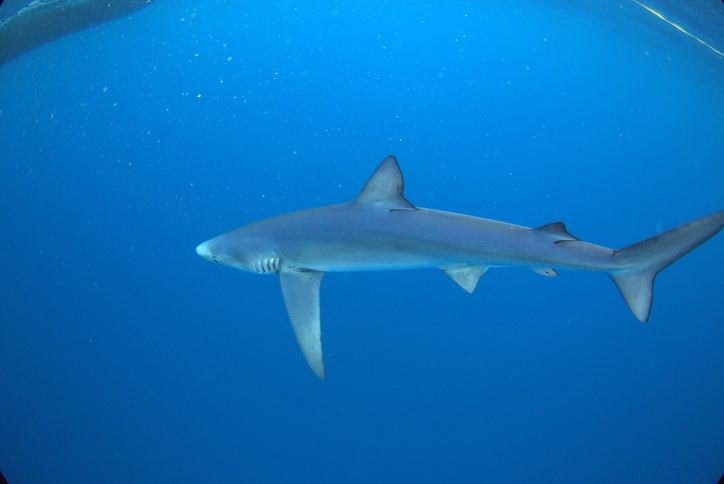Azul: (183, 140, 724, 388)
